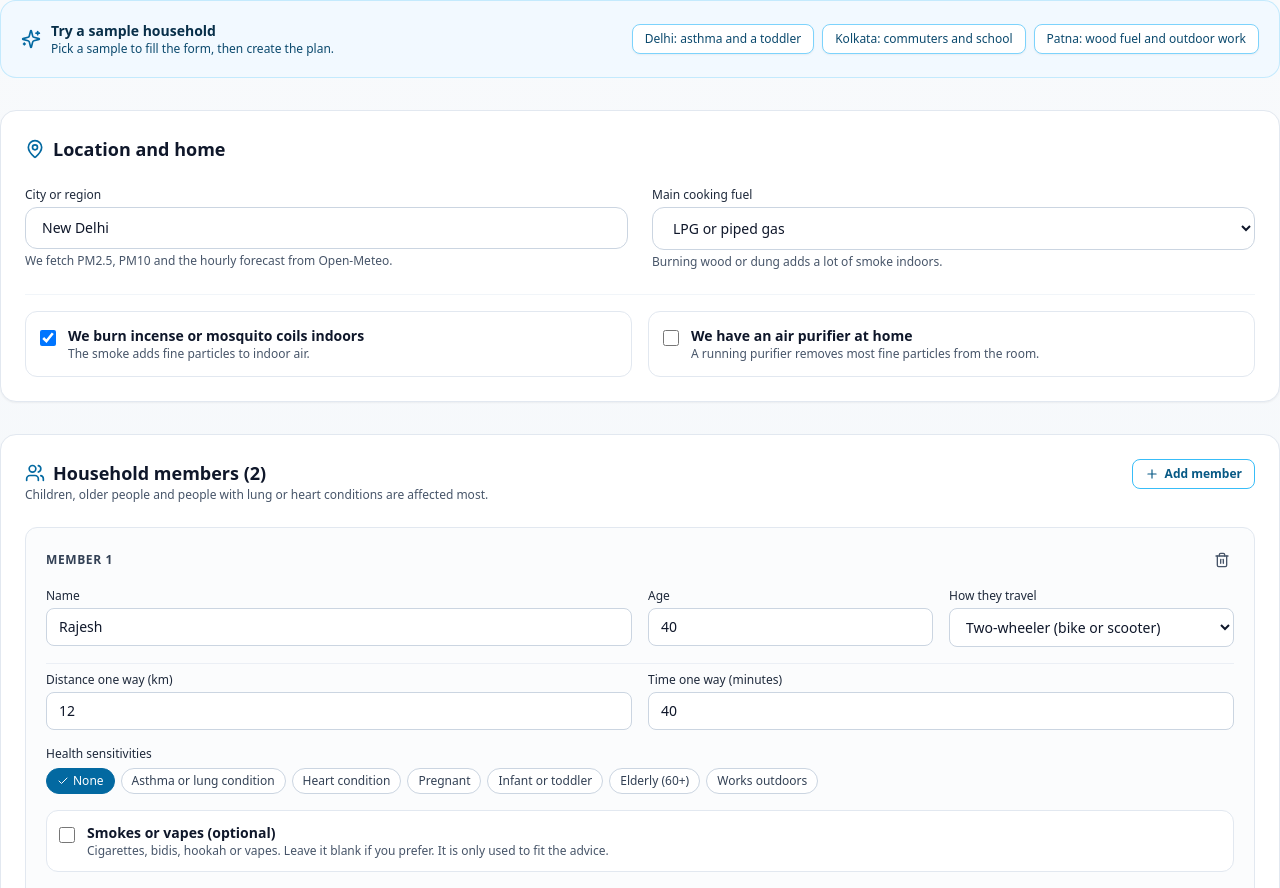
Test: HouseholdForm: new members, homemakers and chips › shows the commute fields again when a homemaker starts travelling
The image size is (1280, 888).
Select "Homemaker (mom or housewife, runs the household)" in the dropdown labelled "How they travel" at point(1092, 628), box [949,608,1234,647]
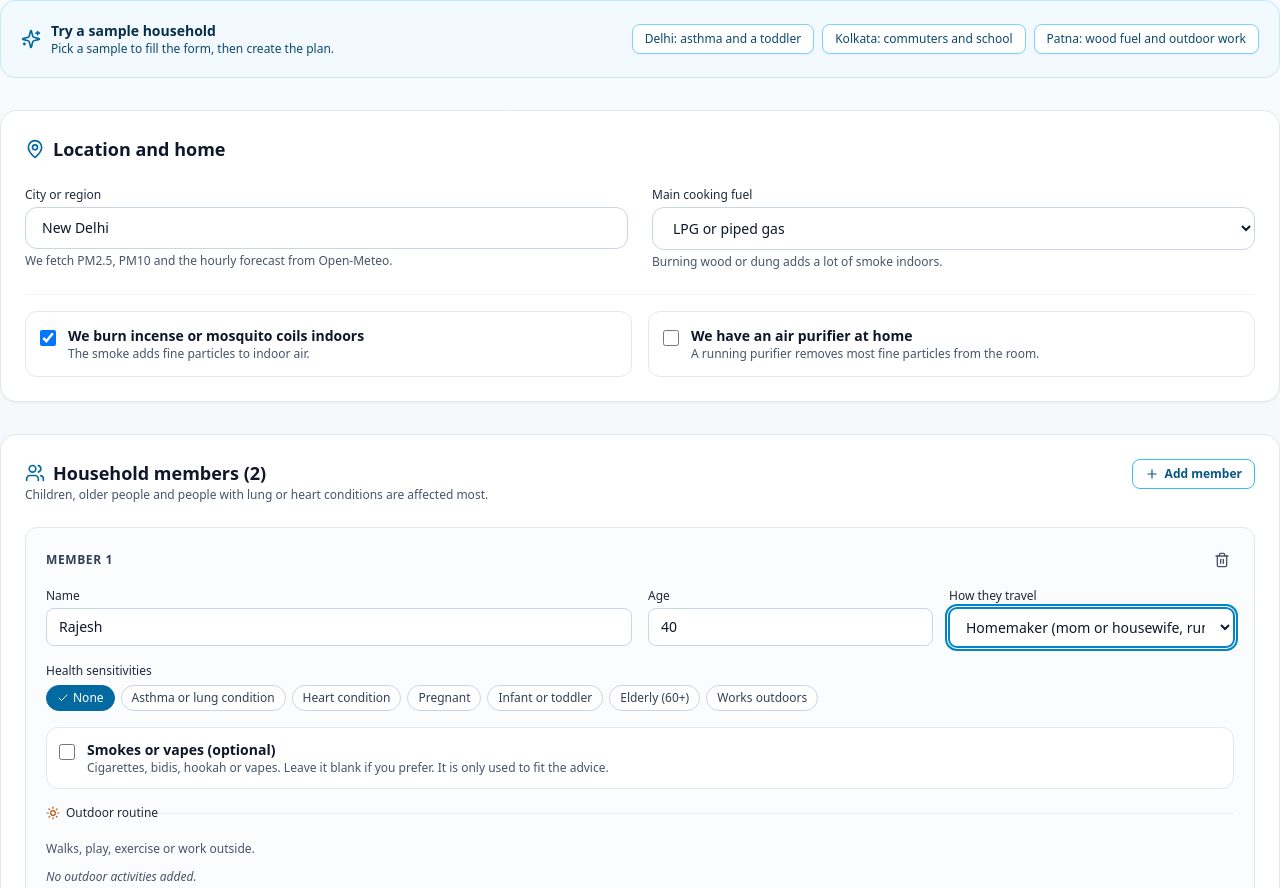
Select "Bus" in the dropdown labelled "How they travel" at point(1092, 628), box [949,608,1234,647]
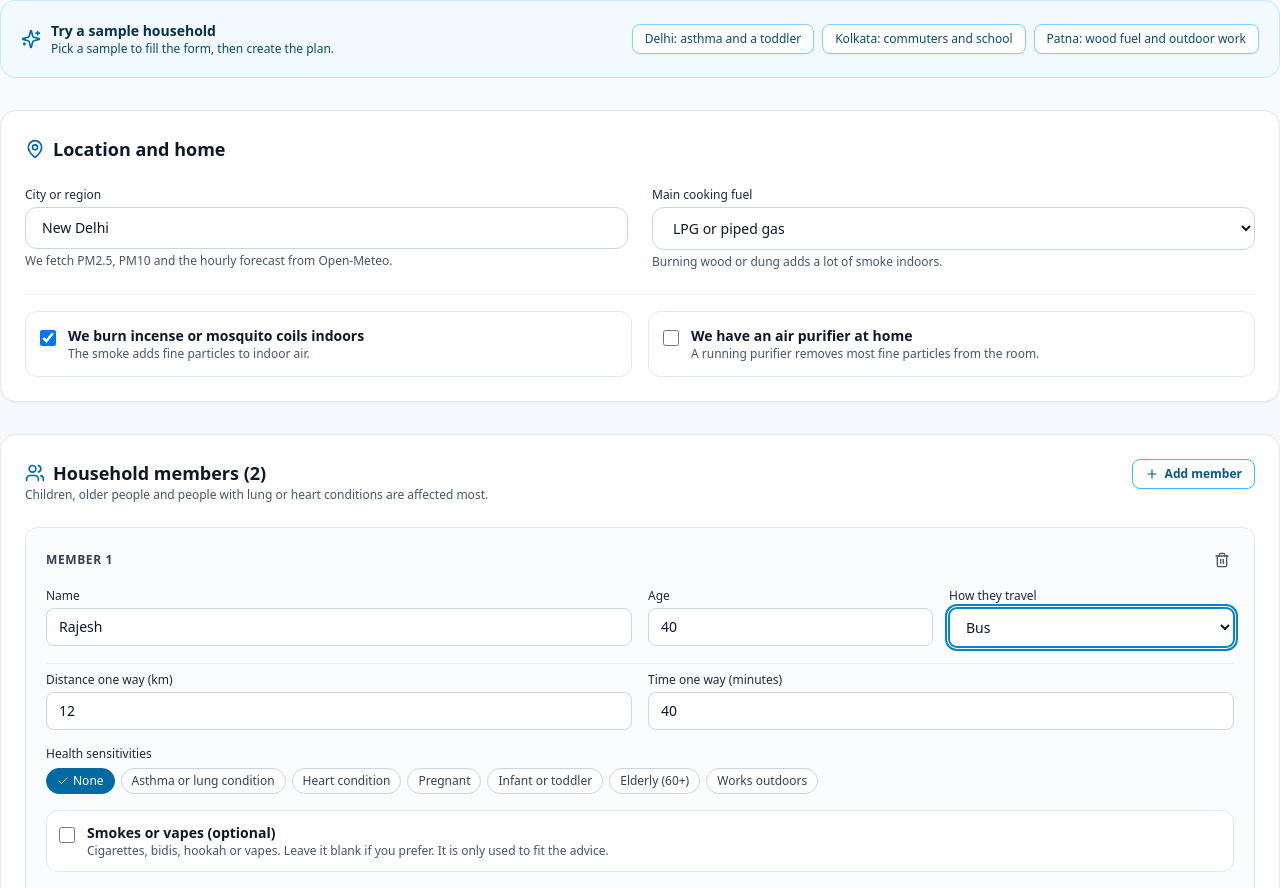
Expected: the number field labelled "Distance one way (km)" is shown, [46,692,632,730]
